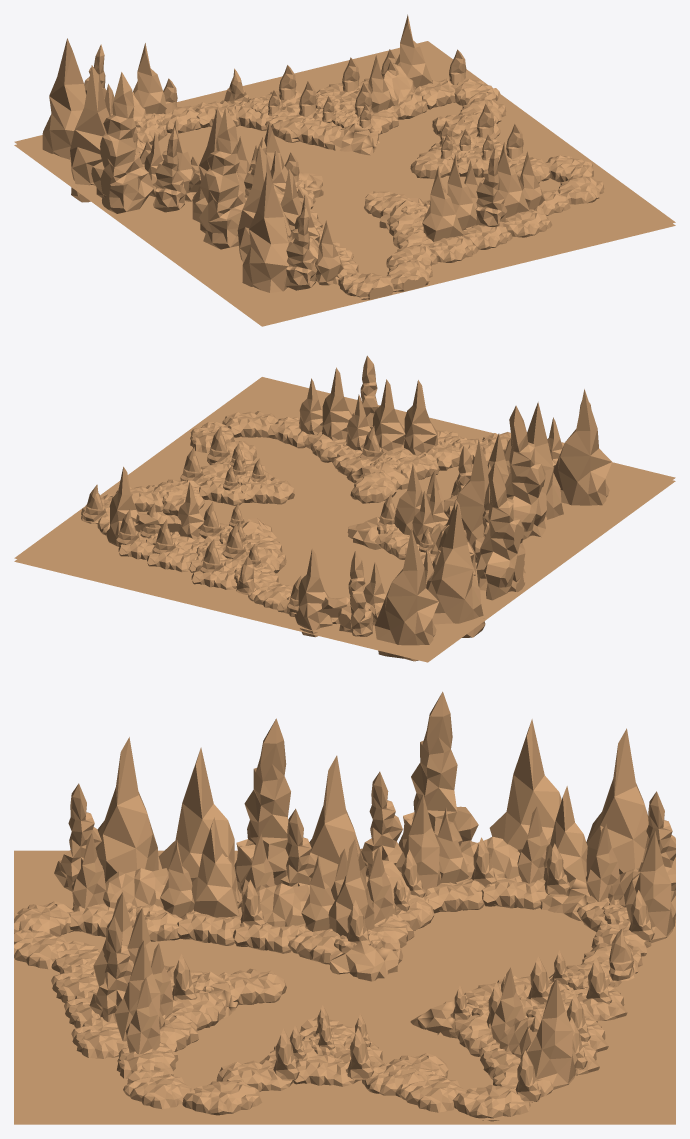
Rendered from карта5 .fbx.
The picture shows the model from 3 angles, top to bottom: view 1: azimuth 30°, elevation 25°; view 2: azimuth 150°, elevation 25°; view 3: azimuth 270°, elevation 25°; orthographic projection. The views are drawn at different scales.
Parts seen in each view (by area): view 1: BézierCurve.005, Plane.004, Cube.153, Cube.152, высокий камень.112, высокий камень.114, высокий камень.116, Cube.154, Cube.157, высокий камень.118, Cube.158, высокий камень.115 (+44 smaller); view 2: BézierCurve.005, Plane.004, Cube.153, высокий камень.114, высокий камень.116, высокий камень.112, Cube.152, высокий камень.113, высокий камень.106, Cube.155, высокий камень.115, высокий камень.118 (+47 smaller); view 3: BézierCurve.005, Plane.004, Cube.152, Cube.153, высокий камень.112, высокий камень.114, высокий камень.116, высокий камень.115, высокий камень.107, высокий камень.113, высокий камень.102, высокий камень.106 (+76 smaller).
Boxes of the visible parts, <box> form: BézierCurve.005: <box>14,41,675,323</box>; Plane.004: <box>14,102,675,326</box>; Cube.153: <box>91,72,153,213</box>; Cube.152: <box>193,107,245,249</box>; высокий камень.112: <box>242,171,290,292</box>; высокий камень.114: <box>42,38,86,159</box>; высокий камень.116: <box>70,65,109,202</box>; Cube.154: <box>153,127,186,212</box>; Cube.157: <box>284,205,317,290</box>; высокий камень.118: <box>422,166,463,242</box>; Cube.158: <box>475,146,507,226</box>; высокий камень.115: <box>237,145,291,263</box>; BézierCurve.005: <box>14,377,675,659</box>; Plane.004: <box>14,437,675,662</box>; Cube.153: <box>476,461,525,600</box>; высокий камень.114: <box>374,529,438,661</box>; высокий камень.116: <box>426,503,485,637</box>; высокий камень.112: <box>553,389,611,505</box>; Cube.152: <box>505,405,546,539</box>; высокий камень.113: <box>446,439,489,546</box>; высокий камень.106: <box>294,548,332,637</box>; Cube.155: <box>338,551,373,636</box>; высокий камень.115: <box>527,402,563,519</box>; высокий камень.118: <box>404,380,437,454</box>; BézierCurve.005: <box>14,850,675,1120</box>; Plane.004: <box>14,905,675,1124</box>; Cube.152: <box>234,718,290,893</box>; Cube.153: <box>398,691,478,851</box>; высокий камень.112: <box>96,737,158,882</box>; высокий камень.114: <box>586,728,649,874</box>; высокий камень.116: <box>489,719,561,853</box>; высокий камень.115: <box>158,747,242,908</box>; высокий камень.107: <box>527,978,577,1089</box>; высокий камень.113: <box>309,755,366,889</box>; высокий камень.102: <box>191,817,242,918</box>; высокий камень.106: <box>626,831,675,943</box>.
Bounding box in the file's own units: 21713 × 7358 × 22541.
